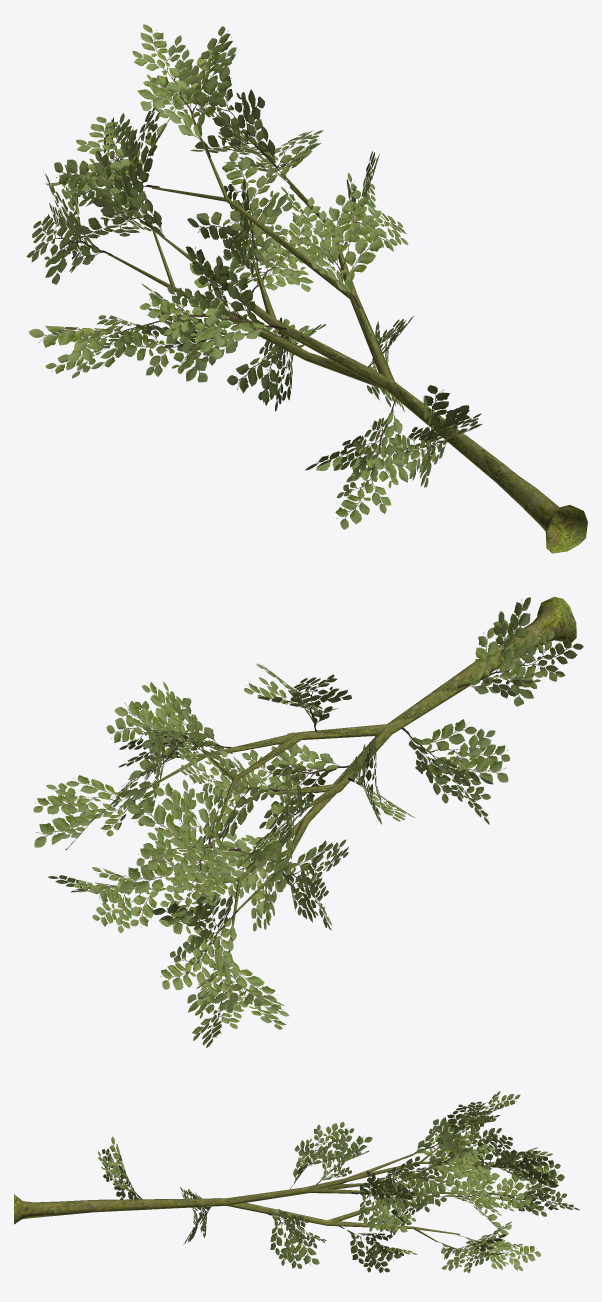
Rendered from tree fg 2.fbx.
3 renders of one model, top to bottom at view 1: azimuth 30°, elevation 25°; view 2: azimuth 150°, elevation 25°; view 3: azimuth 270°, elevation 25°, orthographic. The views are drawn at different scales.
Parts seen in each view (by area): view 1: Cylinder_010; view 2: Cylinder_010; view 3: Cylinder_010.
Boxes of the visible parts, x1,y1,x2,y2 form: Cylinder_010: (26,24,587,553); Cylinder_010: (33,597,583,1047); Cylinder_010: (14,1091,579,1272).
Size of the model in its own units: 6.26 by 6.65 by 16.35.
